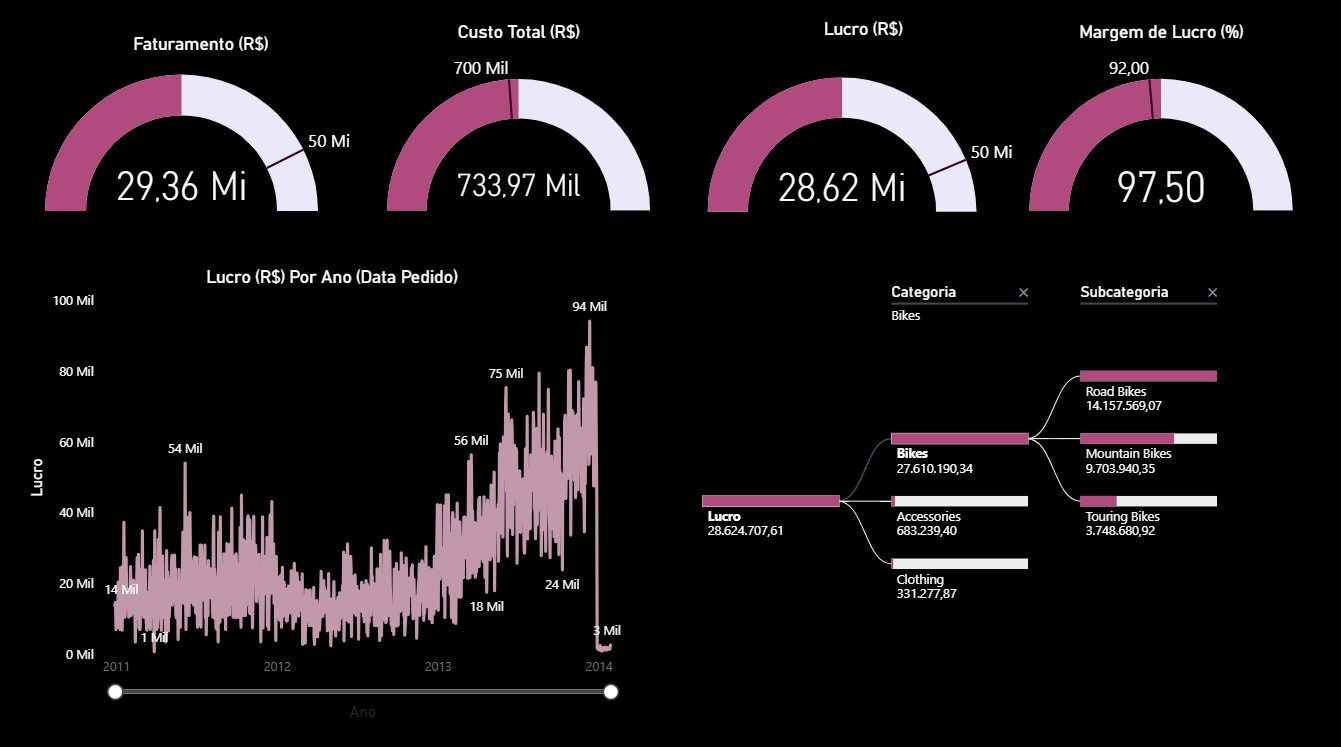

Layout of this report page (visuals, bound fields, positions):
{"tool":"powerbi","page":{"name":"1. Análise de KPIs: Faturamento, Custo e Margem","canvas":[1280,720],"ordinal":1},"visuals":[{"type":"gauge","title":"Faturamento (R$)","fields":{"Y":["Medidas.Faturamento"]},"box":[37.7,35.2,306,189.3],"z":0,"group":"g1"},{"type":"lineChart","title":"Lucro (R$) Por Ano (Data Pedido)","fields":{"Y":["Medidas.Lucro"],"Category":["TB_VENDAS.Data_Pedido.Variation.Hierarquia de datas.Ano","TB_VENDAS.Data_Pedido.Variation.Hierarquia de datas.Trimestre","TB_VENDAS.Data_Pedido.Variation.Hierarquia de datas.Mês","TB_VENDAS.Data_Pedido.Variation.Hierarquia de datas.Dia"]},"box":[22.6,257.1,586.9,436.9],"z":0},{"type":"gauge","title":"Custo Total (R$)","fields":{"Y":["Medidas.TotalCusto"],"TargetValue":["Sum(Metas.Meta Custo)"]},"box":[347.6,24.2,292.9,185.7],"z":1000,"group":"g1"},{"type":"decompositionTreeVisual","fields":{"Analyze":["Medidas.Lucro"],"ExplainBy":["TB_PRODUTO_CATEGORIA.Nome_Categoria","TB_PRODUTO_SUBCATEGORIA.Nome_Subcategoria"]},"box":[639.3,257.1,623.8,426.2],"z":1000},{"type":"group","id":"g1","title":"Grupo 1","box":[37.7,21.4,1208.7,221.4],"z":2000},{"type":"gauge","title":"Lucro (R$)","fields":{"Y":["Medidas.Lucro"]},"box":[669,21.4,306,221.4],"z":2000,"group":"g1"},{"type":"gauge","title":"Margem de Lucro (%)","fields":{"Y":["Medidas.MargemLucro"],"TargetValue":["Sum(Metas.Meta Margem Lucro)"]},"box":[965.4,23.9,281,185.7],"z":3000,"group":"g1"}]}

Visuals, with their boxes in screenshot pixels (x1, y1, x2, y2), scaled from the page's 1280x720 canvas onto the 1341x747 screenshot:
"Faturamento (R$)" gauge: bbox=[39, 37, 360, 233]
"Lucro (R$) Por Ano (Data Pedido)" lineChart: bbox=[24, 267, 639, 720]
"Custo Total (R$)" gauge: bbox=[364, 25, 671, 218]
decompositionTreeVisual - Medidas.Lucro x TB_PRODUTO_CATEGORIA.Nome_Categoria: bbox=[670, 267, 1323, 709]
"Grupo 1" group: bbox=[39, 22, 1306, 252]
"Lucro (R$)" gauge: bbox=[701, 22, 1021, 252]
"Margem de Lucro (%)" gauge: bbox=[1011, 25, 1306, 217]
